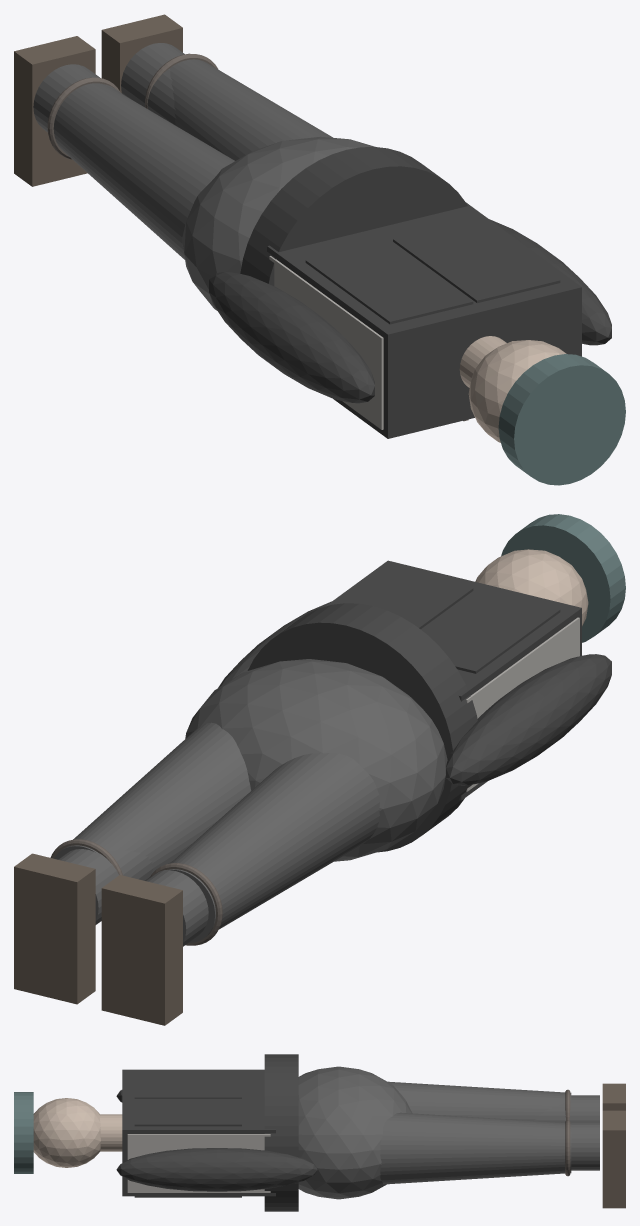
Rendered from MASTER_011_STAGE3_DETAIL.glb.
The picture shows the model from 3 angles, top to bottom: view 1: azimuth 30°, elevation 25°; view 2: azimuth 150°, elevation 25°; view 3: azimuth 270°, elevation 25°; orthographic projection. The views are drawn at different scales.
Visible parts, largest first — view 1: slot_upper_inner__këmishë, slot_lower_main__shallvare_L, slot_waist__brez, slot_headwear__mbulesë_koke, slot_upper_inner_sleeve_L, slot_lower_main__shallvare_hip, slot_lower_main__shallvare_R, slot_upper_outer__jelek/xhamadan_L, slot_upper_outer__jelek/xhamadan_R, slot_footwear__opinga_L, mannequin_torso, mannequin_head (+6 smaller); view 2: slot_lower_main__shallvare_hip, slot_lower_main__shallvare_L, slot_waist__brez, slot_lower_main__shallvare_R, slot_footwear__opinga_R, slot_footwear__opinga_L, slot_upper_inner_sleeve_L, slot_headwear__mbulesë_koke, slot_upper_outer__jelek/xhamadan_L, slot_upper_inner__këmishë, mannequin_head, slot_upper_outer__jelek/xhamadan_R (+5 smaller); view 3: slot_lower_main__shallvare_R, slot_lower_main__shallvare_hip, slot_upper_inner_sleeve_R, slot_lower_main__shallvare_L, slot_upper_inner__këmishë, slot_waist__brez, mannequin_head, slot_upper_outer__jelek/xhamadan_R, slot_upper_outer__jelek/xhamadan_L, mannequin_torso, slot_footwear__opinga_R, slot_headwear__mbulesë_koke (+5 smaller).
Part boxes in pixels (x1,y1,x2,y2): slot_upper_inner__këmishë: (267, 202, 581, 438); slot_lower_main__shallvare_L: (53, 83, 234, 259); slot_waist__brez: (240, 147, 467, 285); slot_headwear__mbulesë_koke: (498, 354, 625, 485); slot_upper_inner_sleeve_L: (209, 272, 374, 403); slot_lower_main__shallvare_hip: (182, 136, 375, 310); slot_lower_main__shallvare_R: (169, 59, 332, 160); slot_upper_outer__jelek/xhamadan_L: (305, 240, 473, 324); slot_upper_outer__jelek/xhamadan_R: (393, 219, 560, 303); slot_footwear__opinga_L: (14, 36, 95, 186); mannequin_torso: (269, 256, 383, 429); mannequin_head: (468, 340, 566, 442); slot_lower_main__shallvare_hip: (185, 659, 447, 861); slot_lower_main__shallvare_L: (168, 753, 379, 942); slot_waist__brez: (247, 603, 477, 852); slot_lower_main__shallvare_R: (54, 722, 251, 873); slot_footwear__opinga_R: (14, 853, 95, 1004); slot_footwear__opinga_L: (101, 875, 182, 1025); slot_upper_inner_sleeve_L: (446, 654, 611, 785); slot_headwear__mbulesë_koke: (501, 514, 625, 642); slot_upper_outer__jelek/xhamadan_L: (422, 589, 560, 673); slot_upper_inner__këmishë: (325, 560, 581, 800); mannequin_head: (475, 549, 588, 626); slot_upper_outer__jelek/xhamadan_R: (342, 568, 473, 629); slot_lower_main__shallvare_R: (380, 1112, 571, 1184); slot_lower_main__shallvare_hip: (298, 1066, 411, 1199); slot_upper_inner_sleeve_R: (116, 1148, 317, 1191); slot_lower_main__shallvare_L: (388, 1081, 571, 1120); slot_upper_inner__këmishë: (122, 1069, 275, 1196); slot_waist__brez: (264, 1054, 298, 1211); mannequin_head: (33, 1098, 100, 1167); slot_upper_outer__jelek/xhamadan_R: (134, 1098, 241, 1197); slot_upper_outer__jelek/xhamadan_L: (134, 1071, 241, 1098); mannequin_torso: (127, 1134, 270, 1192); slot_footwear__opinga_R: (602, 1110, 625, 1208); slot_headwear__mbulesë_koke: (14, 1092, 33, 1173).
Size of the model in its own units: 0.6103 by 0.44 by 1.71.
